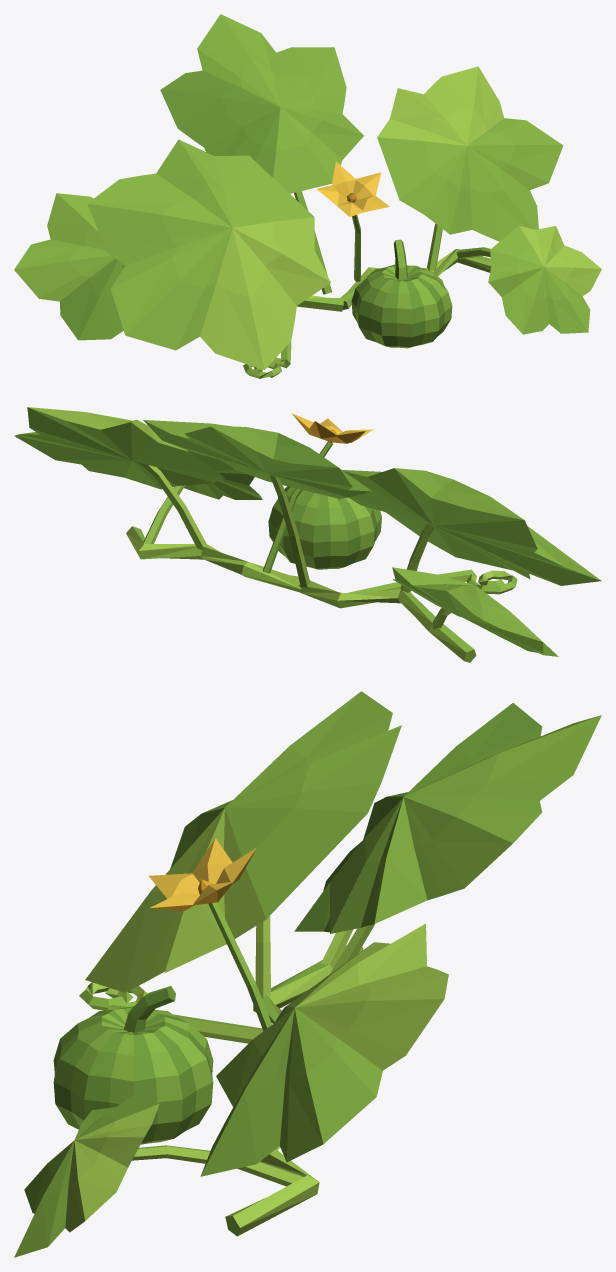
The model's file is FMS_Crop_Pumpkin_S2.fbx.
3 renders of one model, top to bottom at view 1: azimuth 30°, elevation 25°; view 2: azimuth 150°, elevation 25°; view 3: azimuth 270°, elevation 25°, orthographic. The views are drawn at different scales.
Parts seen in each view (by area): view 1: FMS_Crop_Pumpkin_S2; view 2: FMS_Crop_Pumpkin_S2; view 3: FMS_Crop_Pumpkin_S2.
Boxes of the visible parts, bbox=[...] form: FMS_Crop_Pumpkin_S2: bbox=[14, 14, 601, 378]; FMS_Crop_Pumpkin_S2: bbox=[14, 407, 601, 662]; FMS_Crop_Pumpkin_S2: bbox=[14, 691, 601, 1257].
Size of the model in its own units: 1.28 by 0.5625 by 0.7706.
